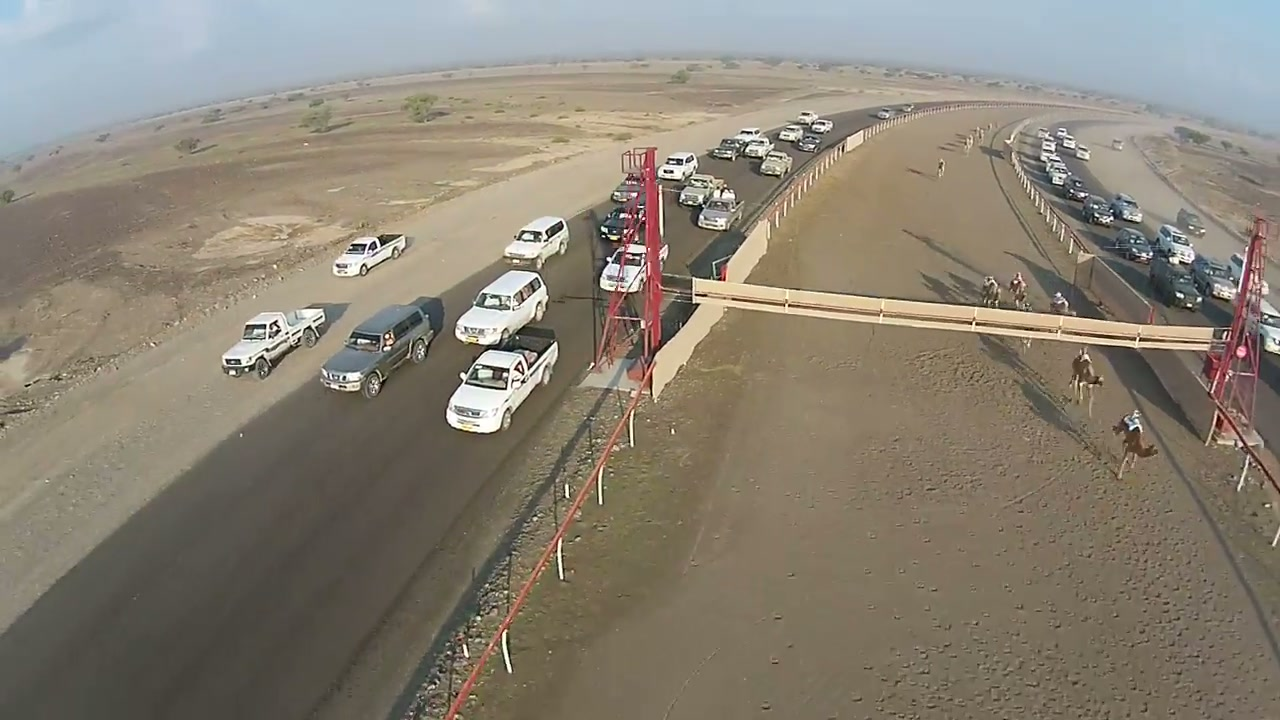animal_footprint: (1020, 382, 1253, 711)
